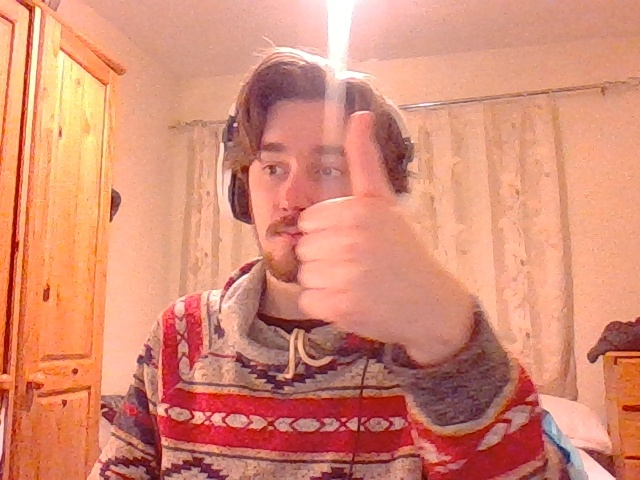good: (299, 110, 460, 333)
